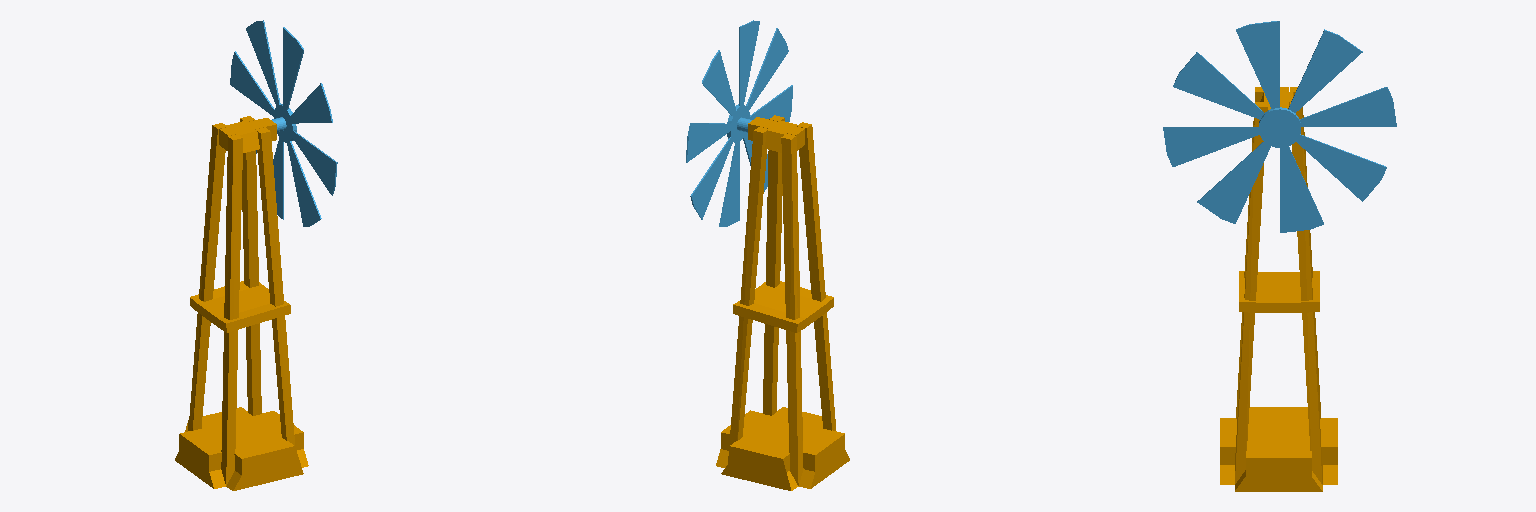
URDF robot description (predicted_windmill):
<?xml version="1.0"?>
<robot name="predicted_windmill">
  <link name="base_link">
    <visual>
      <geometry>
        <mesh filename="meshes/part_01.stl"/>
      </geometry>
    </visual>
  </link>
  <link name="link_manualv2_1778256973593_J0">
    <visual>
      <origin xyz="-0.0850 0.0000 -0.2734" rpy="0 0 0"/>
      <geometry>
        <mesh filename="meshes/part_00.stl"/>
      </geometry>
    </visual>
  </link>
  <joint name="joint_manualv2_1778256973593_J0" type="continuous">
    <parent link="base_link"/>
    <child link="link_manualv2_1778256973593_J0"/>
    <origin xyz="0.0850 0.0000 0.2734" rpy="0 0 0"/>
    <axis xyz="1.0000 0.0000 0.0000"/>
  </joint>
</robot>

--- What the picture shows (computed from the rendered views, not written in the file) ---
3 views of the same robot in one strip: view 1: azimuth 30°, elevation 25°; view 2: azimuth 150°, elevation 25°; view 3: azimuth 270°, elevation 25° (orthographic).
Model predicted_windmill with 2 links and 1 joints (1 continuous), rooted at base_link, posed all joints at 0.
Visible links, largest first — view 1: base_link, link_manualv2_1778256973593_J0; view 2: base_link, link_manualv2_1778256973593_J0; view 3: link_manualv2_1778256973593_J0, base_link.
Link boxes in pixels (left/top/right/bottom): base_link: left=175, top=116, right=308, bottom=490; link_manualv2_1778256973593_J0: left=230, top=20, right=337, bottom=226; base_link: left=716, top=115, right=849, bottom=490; link_manualv2_1778256973593_J0: left=686, top=20, right=792, bottom=226; link_manualv2_1778256973593_J0: left=1163, top=21, right=1396, bottom=232; base_link: left=1220, top=87, right=1337, bottom=491.
Bounding box of the posed robot: 0.2331 × 0.4532 × 1 m (x, y, z).
2 mesh visuals loaded from 2 distinct referenced files (2 binary STL).
